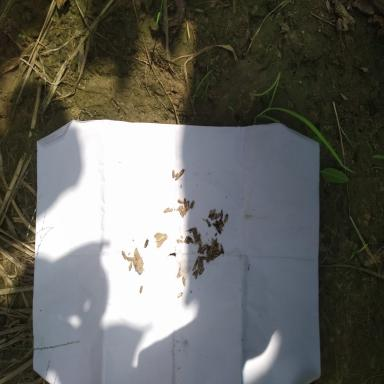abw: (154, 232, 168, 249)
pbw: (197, 259, 203, 274), (192, 260, 198, 272), (194, 234, 200, 244), (213, 242, 219, 252), (223, 213, 228, 225), (121, 249, 126, 260), (216, 225, 222, 234), (219, 218, 225, 227), (216, 220, 222, 229), (220, 244, 225, 254), (210, 213, 217, 220), (209, 208, 216, 215), (200, 244, 206, 252), (206, 254, 212, 262), (186, 200, 190, 212), (199, 267, 204, 276), (182, 276, 186, 287), (212, 250, 219, 256), (176, 205, 183, 211), (176, 292, 183, 298), (194, 269, 198, 279), (206, 219, 211, 227), (190, 200, 195, 208), (144, 238, 148, 248), (128, 261, 132, 271), (139, 285, 143, 294), (214, 213, 220, 219), (208, 213, 215, 218), (179, 210, 184, 217), (177, 199, 184, 204), (199, 256, 206, 260), (220, 209, 223, 218), (181, 207, 186, 212), (198, 250, 204, 254), (184, 198, 186, 208)
